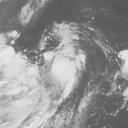cyclone: (17, 31, 87, 100)
